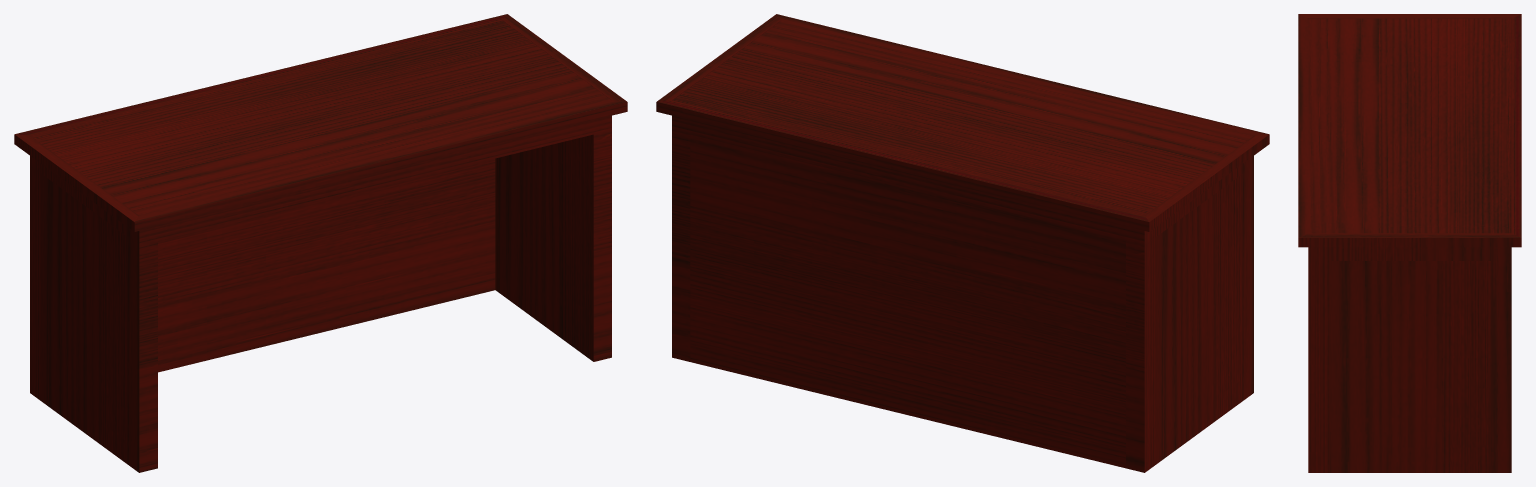
File: desk.obj
The picture shows the model from 3 angles, left to right: view 1: azimuth 30°, elevation 25°; view 2: azimuth 150°, elevation 25°; view 3: azimuth 270°, elevation 25°; orthographic projection. The views are drawn at different scales.
Parts seen in each view (by area): view 1: desk; view 2: desk; view 3: desk.
Boxes of the visible parts, <box> form: desk: <box>14,14,627,472</box>; desk: <box>656,14,1269,472</box>; desk: <box>1298,14,1521,472</box>.
Bounding box in the file's own units: 2.12 × 1.06 × 0.8952.
Materials: 1 (1 with a texture image).
